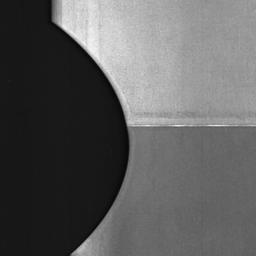Crescent gap: (52, 16, 130, 252)
